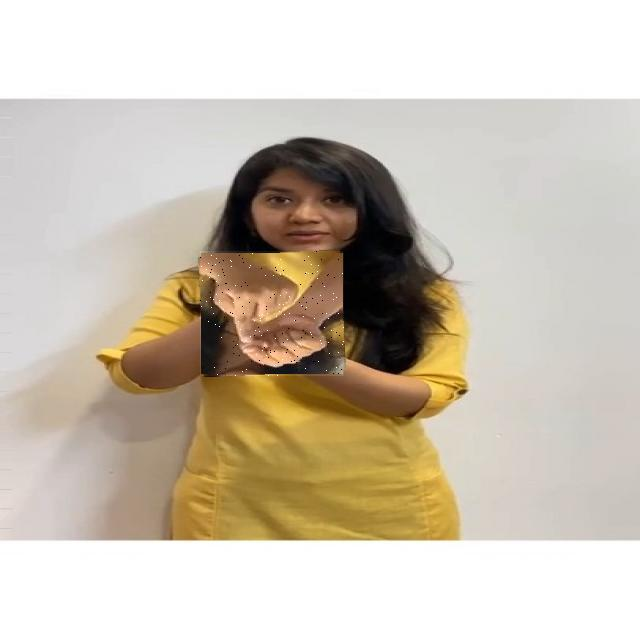I: (200, 251, 344, 376)
